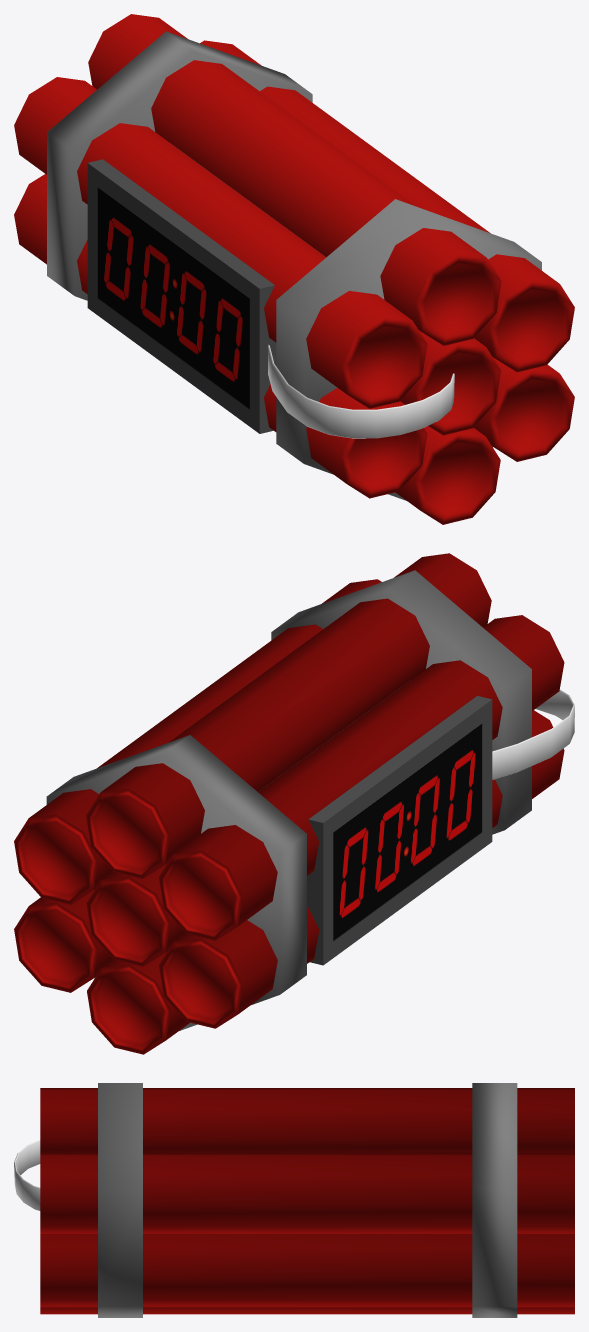
Rendered from lcbomb.fbx.
The picture shows the model from 3 angles, top to bottom: view 1: azimuth 30°, elevation 25°; view 2: azimuth 150°, elevation 25°; view 3: azimuth 270°, elevation 25°; orthographic projection. The views are drawn at different scales.
Parts seen in each view (by area): view 1: Bomb; view 2: Bomb; view 3: Bomb.
Part boxes in pixels (x1,y1,x2,y2): Bomb: (14, 14, 574, 524); Bomb: (14, 553, 574, 1054); Bomb: (14, 1083, 574, 1317).
Size of the model in its own units: 588 by 630 by 1364.
Materials: 4 (1 with a texture image).
